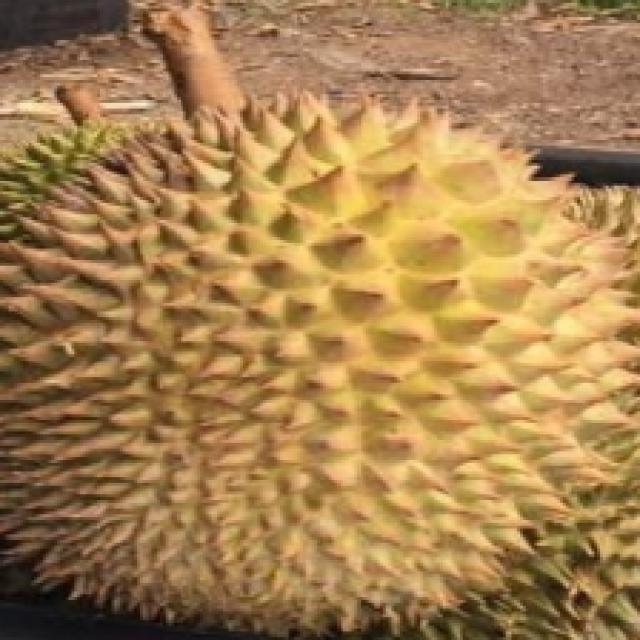d101: (7, 94, 589, 639)
